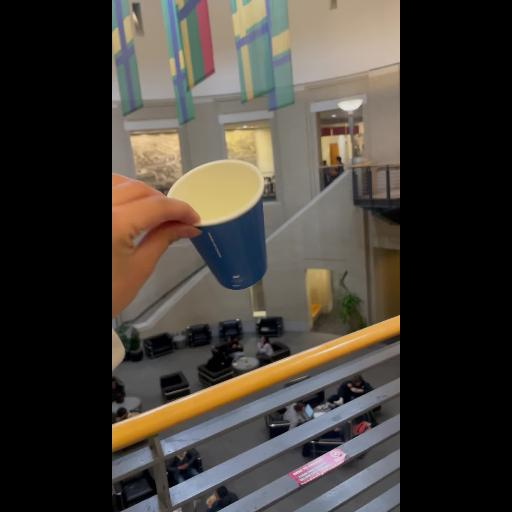lp_paper_cup: (152, 138, 312, 304)
